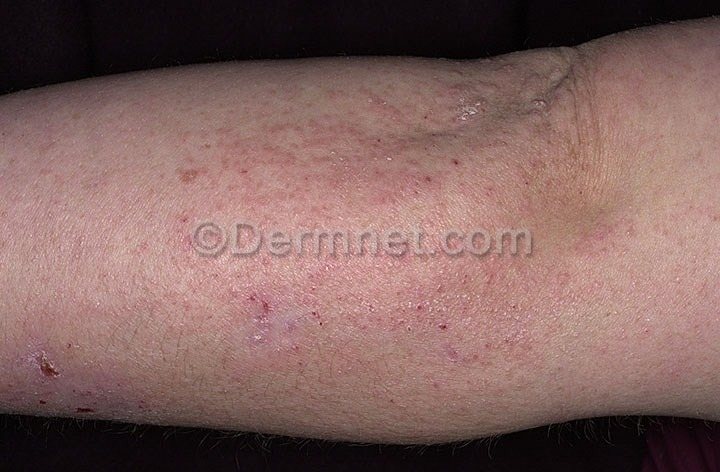Eczema: (122, 50, 706, 380), (9, 335, 106, 415)
